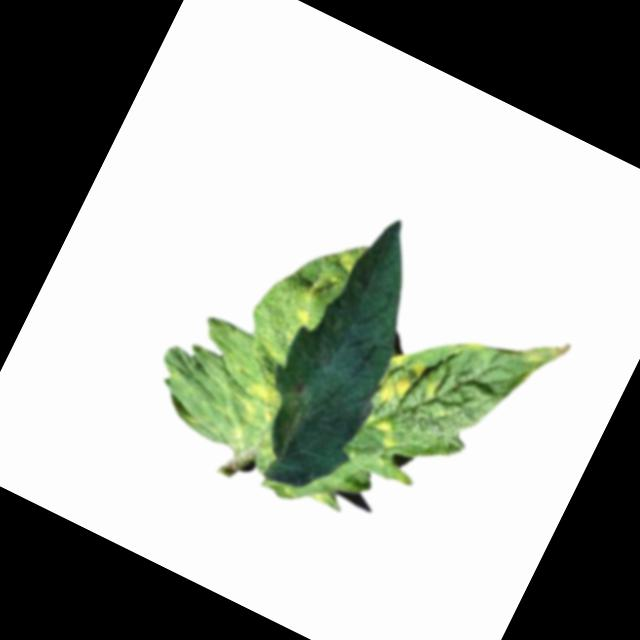Leaf_Mold: (373, 346, 449, 420), (233, 377, 288, 428), (365, 411, 407, 453)
